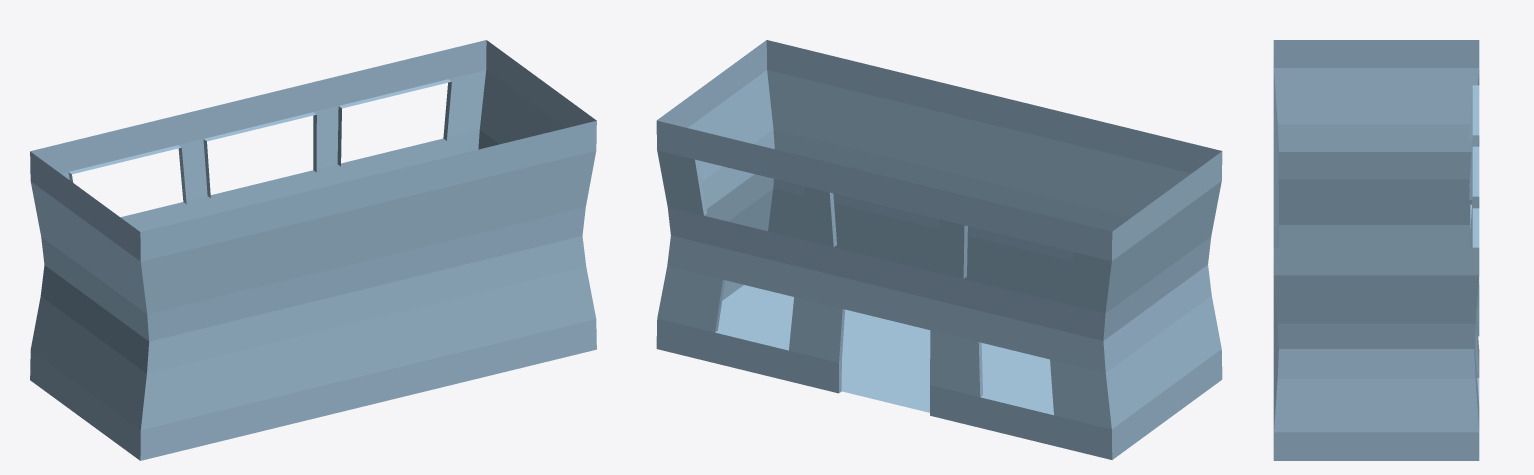
The model's file is Bld_R_low_L4_B.fbx.
3 renders of one model, left to right at view 1: azimuth 30°, elevation 25°; view 2: azimuth 150°, elevation 25°; view 3: azimuth 270°, elevation 25°, orthographic. The views are drawn at different scales.
Visible parts, largest first — view 1: Bld_R_low_L4_B_LOD0; view 2: Bld_R_low_L4_B_LOD0; view 3: Bld_R_low_L4_B_LOD0.
Part boxes in pixels (<box>): Bld_R_low_L4_B_LOD0: <box>30,40,596,460</box>; Bld_R_low_L4_B_LOD0: <box>656,40,1222,459</box>; Bld_R_low_L4_B_LOD0: <box>1273,40,1479,460</box>.
Size of what is drawn, in the model's own units: 1400 by 855 by 689.
1 material, 1 textured.
